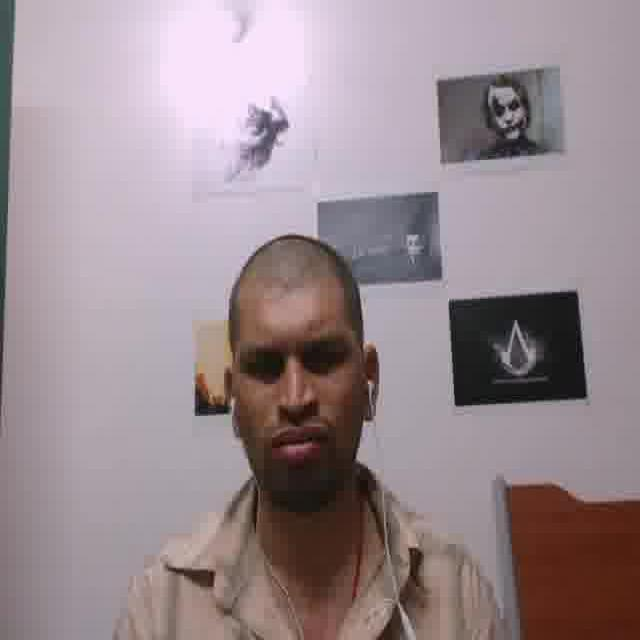Frustration: (229, 272, 360, 493)
